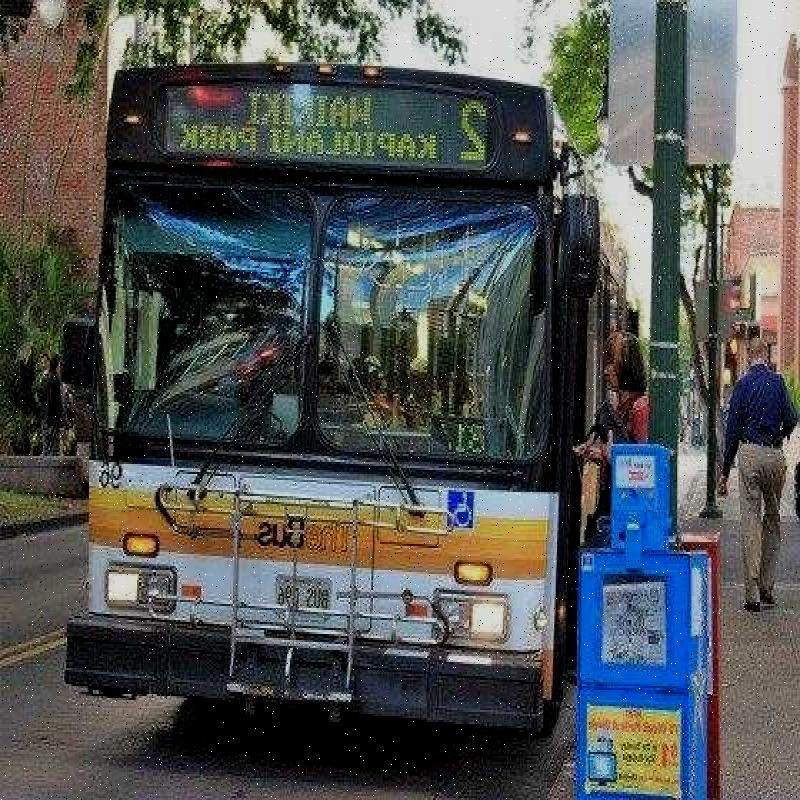bus: (57, 66, 568, 739)
